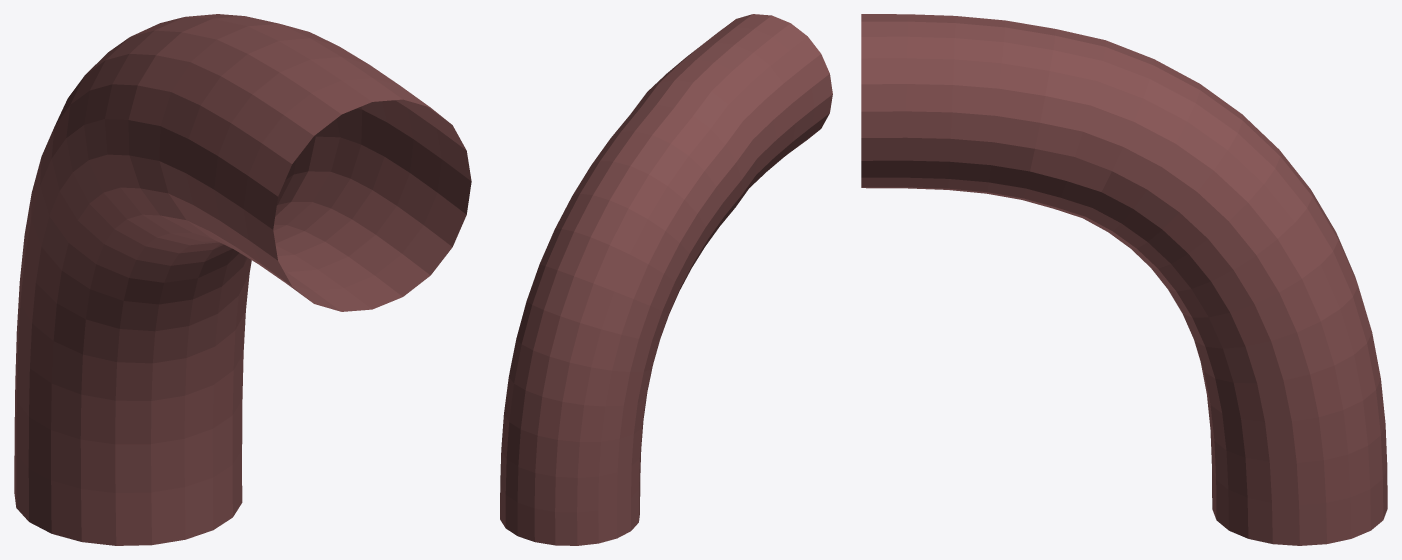
File: SM_Pipe_Corner31.fbx
3 views of the same model, side by side, from view 1: azimuth 30°, elevation 25°; view 2: azimuth 150°, elevation 25°; view 3: azimuth 270°, elevation 25° (orthographic). The views are drawn at different scales.
Visible parts, largest first — view 1: SM_Pipe_Corner31; view 2: SM_Pipe_Corner31; view 3: SM_Pipe_Corner31.
Boxes of the visible parts, x1,y1,x2,y2 form: SM_Pipe_Corner31: (14,14,471,545); SM_Pipe_Corner31: (500,14,832,545); SM_Pipe_Corner31: (861,14,1387,545).
Bounding box in the file's own units: 14.55 × 35.59 × 36.
